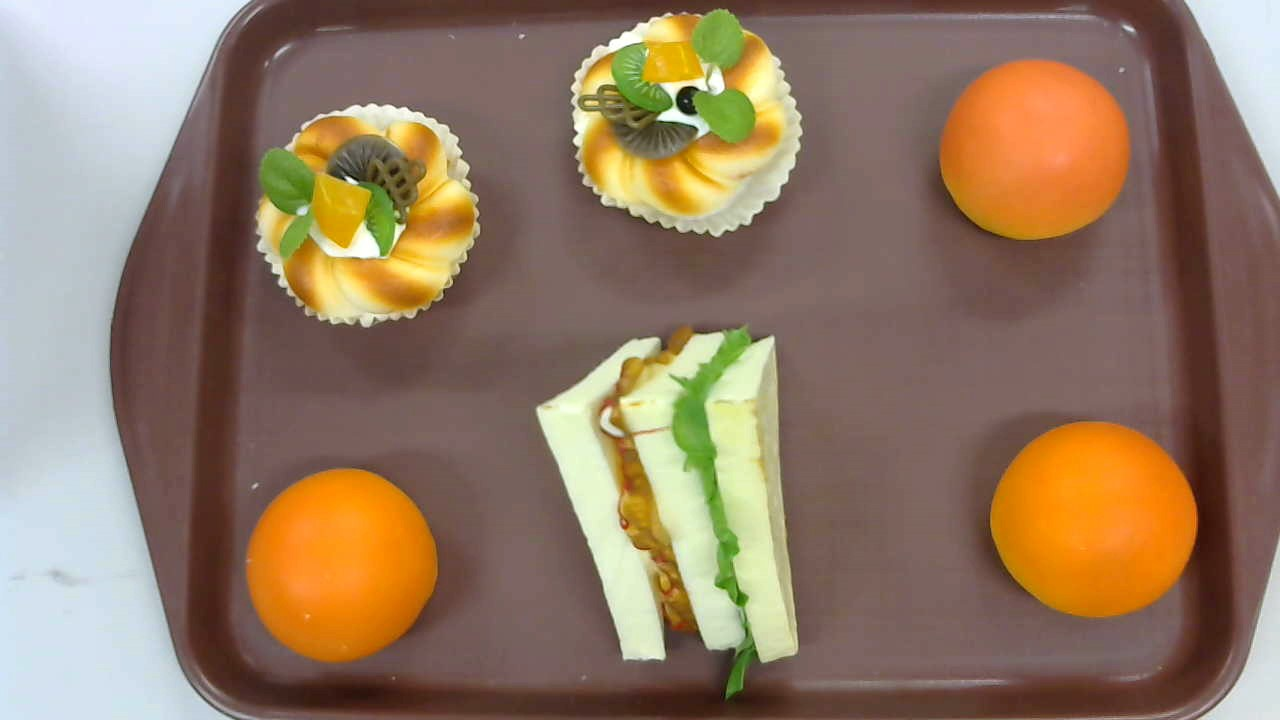bun: (990, 421, 1197, 619), (245, 468, 438, 664), (938, 58, 1131, 241)
fruit tart: (570, 6, 803, 237), (254, 103, 480, 329)
sandwich: (535, 324, 799, 702)
